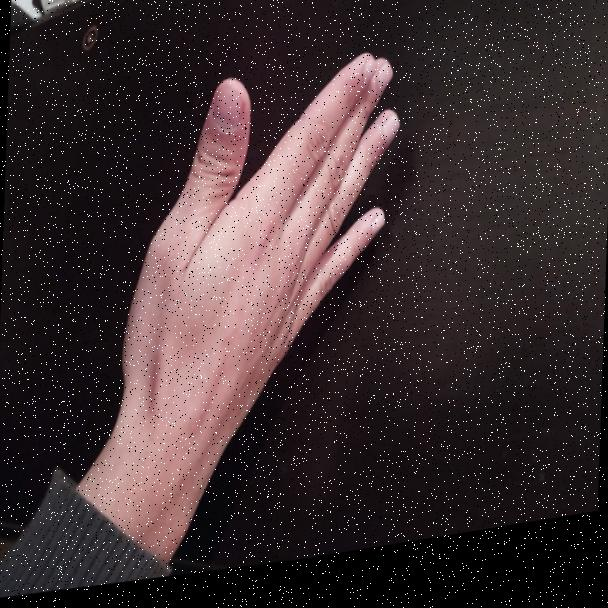five: (150, 40, 400, 446)
